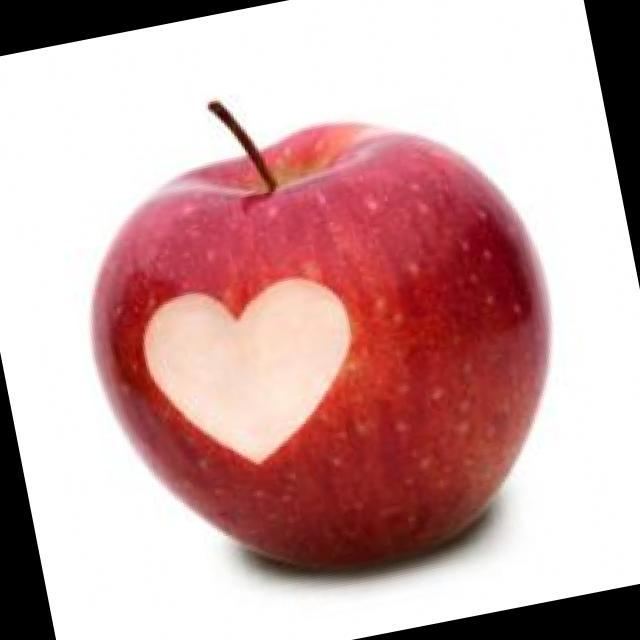APPLE: (57, 95, 606, 607)
